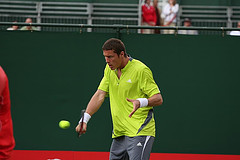tennis ball: (56, 119, 72, 130)
